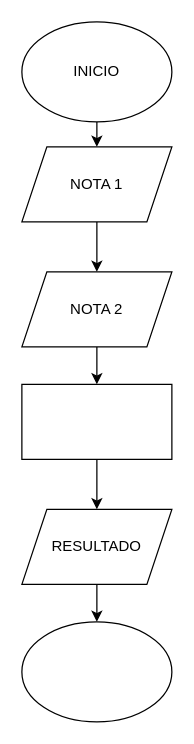
This 194x744 diagram has some shape labels left out. Each missing label, with the centre of its shape:
CALCULO MEDIA: point 96,421
FIM: point 96,671
